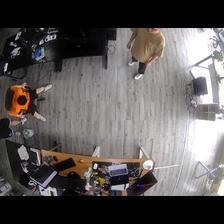normal: (127, 28, 165, 80), (8, 82, 53, 123)
